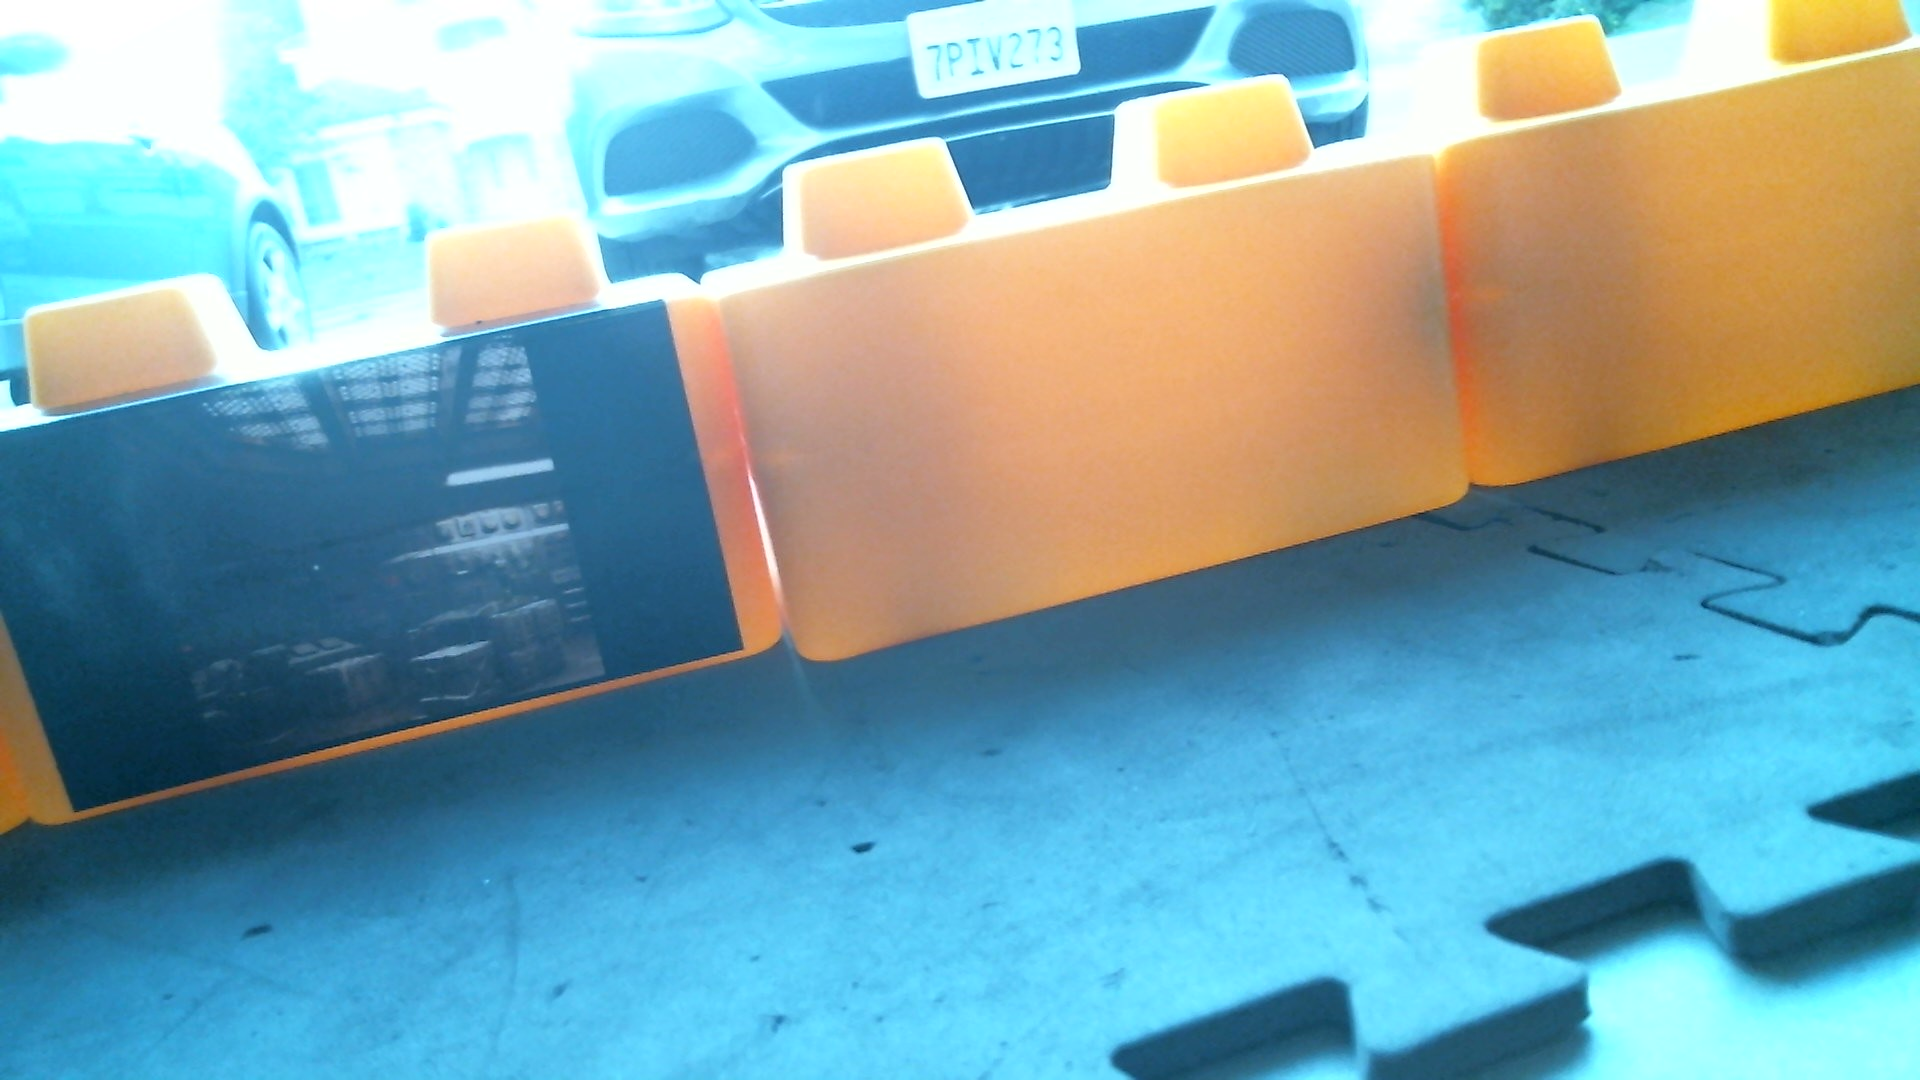left: (1, 24, 1917, 793)
